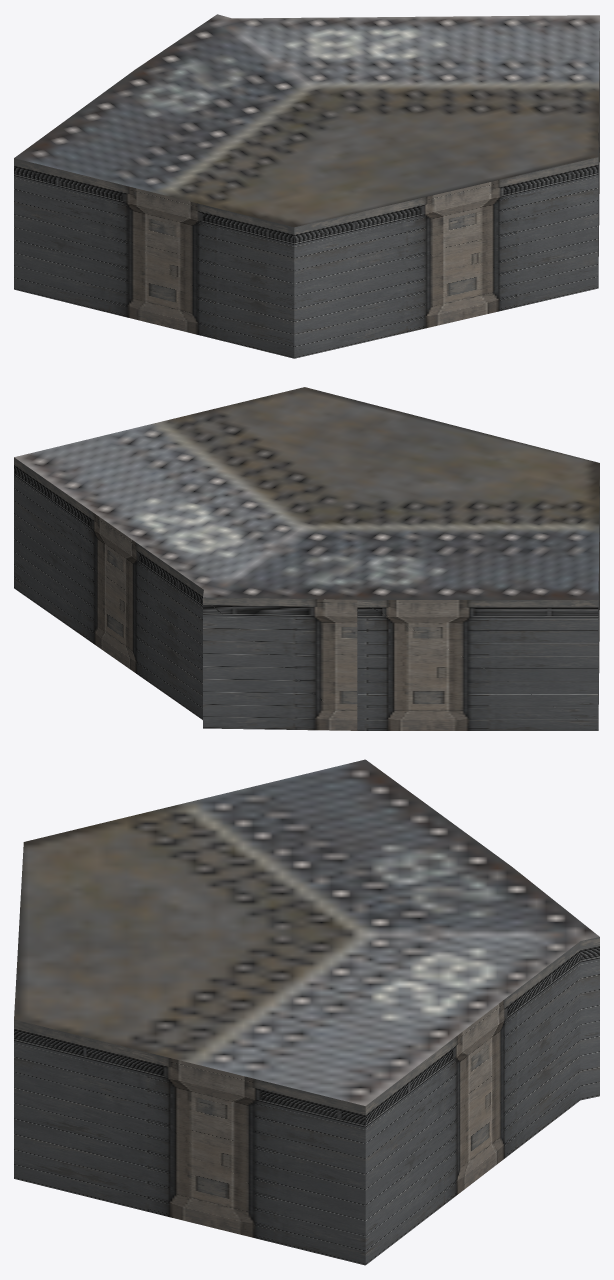
Rendered from hangar_heavy_28.glb.
3 views of the same model, one above another, from view 1: azimuth 30°, elevation 25°; view 2: azimuth 150°, elevation 25°; view 3: azimuth 270°, elevation 25° (orthographic). The views are drawn at different scales.
Parts seen in each view (by area): view 1: buildings/saxarba/hangar_heavy/hangar_heavy_28; view 2: buildings/saxarba/hangar_heavy/hangar_heavy_28; view 3: buildings/saxarba/hangar_heavy/hangar_heavy_28.
Boxes of the visible parts, left/top/right/bottom form: buildings/saxarba/hangar_heavy/hangar_heavy_28: left=14, top=14, right=599, bottom=358; buildings/saxarba/hangar_heavy/hangar_heavy_28: left=14, top=387, right=599, bottom=730; buildings/saxarba/hangar_heavy/hangar_heavy_28: left=14, top=759, right=599, bottom=1265.
Bounding box in the file's own units: 84 × 18 × 60.
